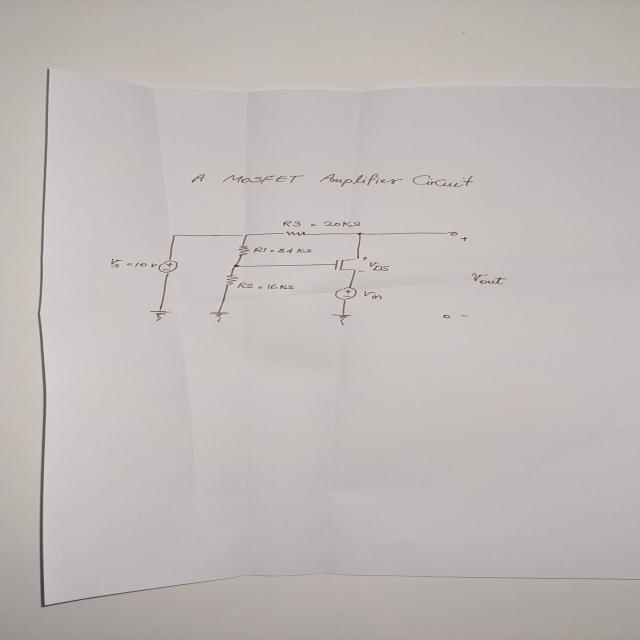ground: (148, 309, 172, 321), (330, 313, 352, 326), (208, 311, 230, 322)
junction: (240, 233, 249, 237), (232, 264, 240, 268), (356, 232, 364, 236), (170, 234, 177, 236)
resistor: (224, 274, 238, 286), (236, 245, 250, 256), (282, 231, 307, 236)
source: (333, 286, 357, 301), (157, 260, 178, 274)
terminal: (444, 231, 459, 236), (441, 314, 451, 318)
text: (189, 172, 475, 188), (281, 220, 362, 228), (236, 281, 295, 290), (108, 258, 157, 268), (252, 246, 312, 254), (471, 272, 506, 284), (368, 261, 390, 271), (363, 290, 383, 299), (459, 236, 469, 241), (360, 256, 369, 260), (458, 314, 470, 317), (356, 270, 365, 272)
transistor: (332, 257, 359, 271)
